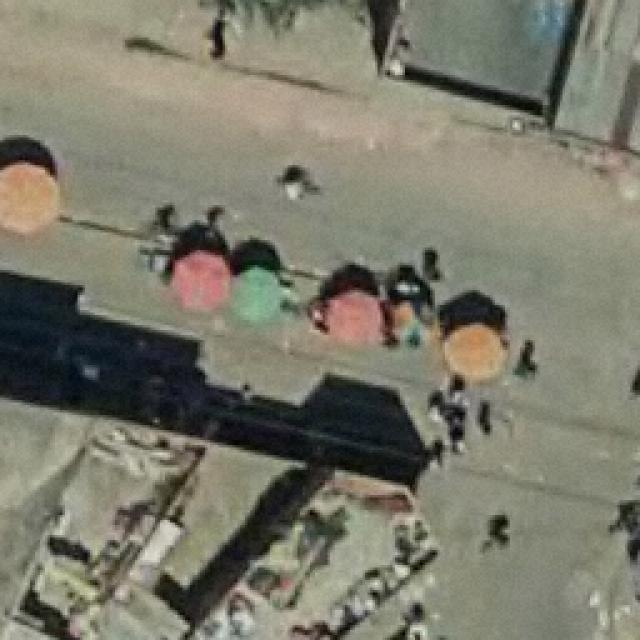vendedor_ambulante: (0, 156, 67, 238), (437, 321, 511, 382), (168, 246, 230, 313), (321, 284, 385, 346), (220, 264, 282, 325)
